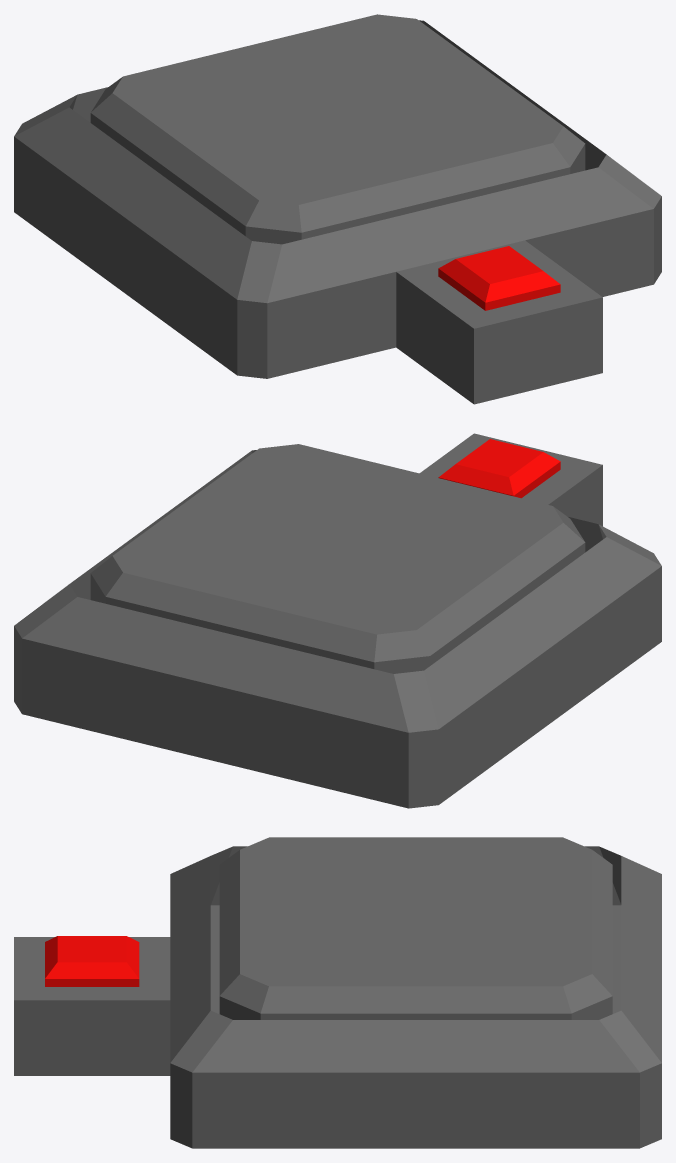
Rendered from wAREHOUSE2.fbx.
3 views of the same model, one above another, from view 1: azimuth 30°, elevation 25°; view 2: azimuth 150°, elevation 25°; view 3: azimuth 270°, elevation 25° (orthographic).
Parts seen in each view (by area): view 1: CherryBase, CherryPlatform; view 2: CherryBase, CherryPlatform; view 3: CherryBase, CherryPlatform.
Part boxes in pixels (x1,y1,x2,y2): CherryBase: [14, 20, 661, 404]; CherryPlatform: [90, 14, 585, 244]; CherryBase: [14, 433, 661, 808]; CherryPlatform: [90, 444, 585, 673]; CherryBase: [14, 846, 661, 1148]; CherryPlatform: [219, 837, 612, 1019].
Size of the model in its own units: 120 by 158 by 35.72.
